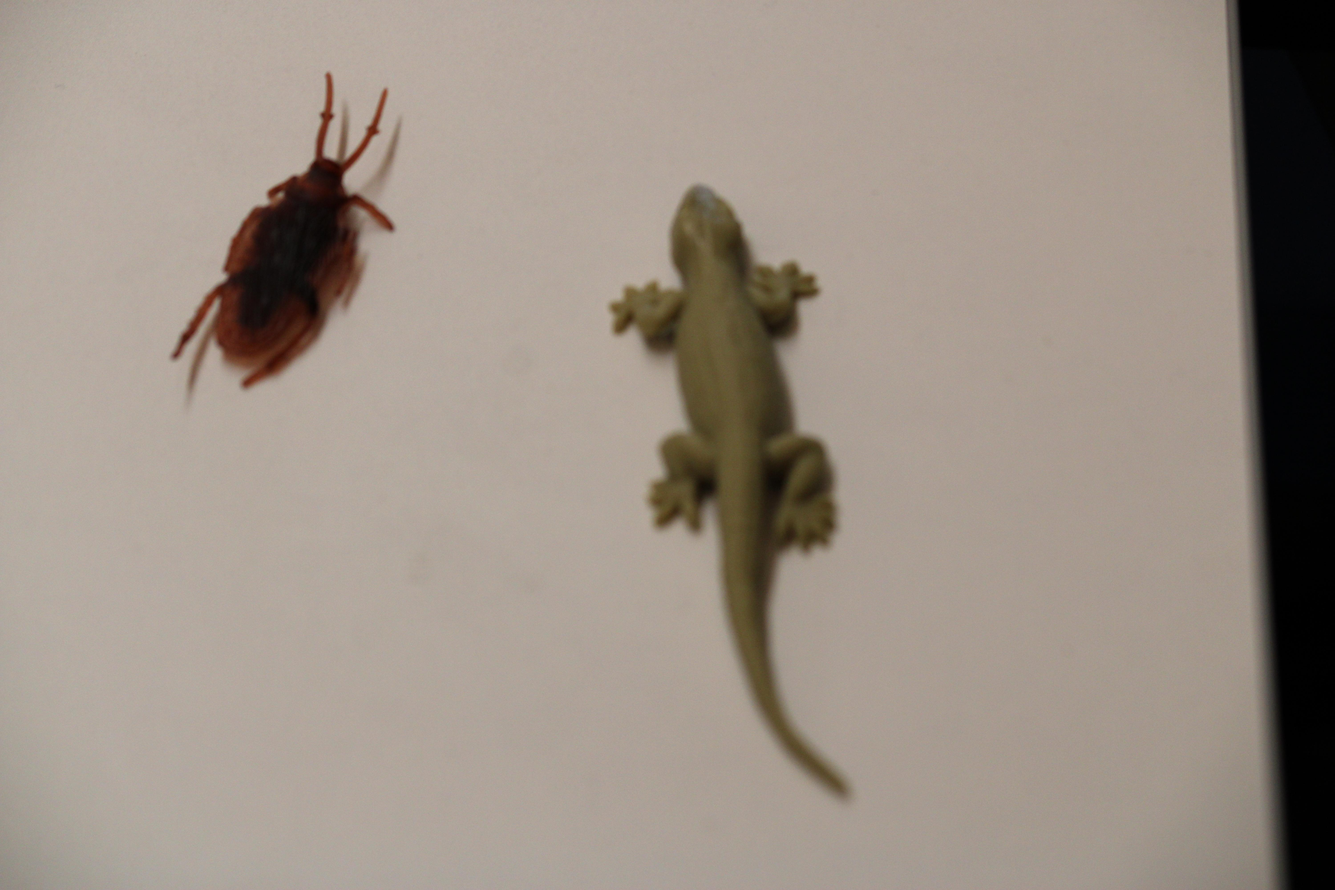cockroach: (167, 69, 407, 385)
lizard: (599, 174, 884, 799)
